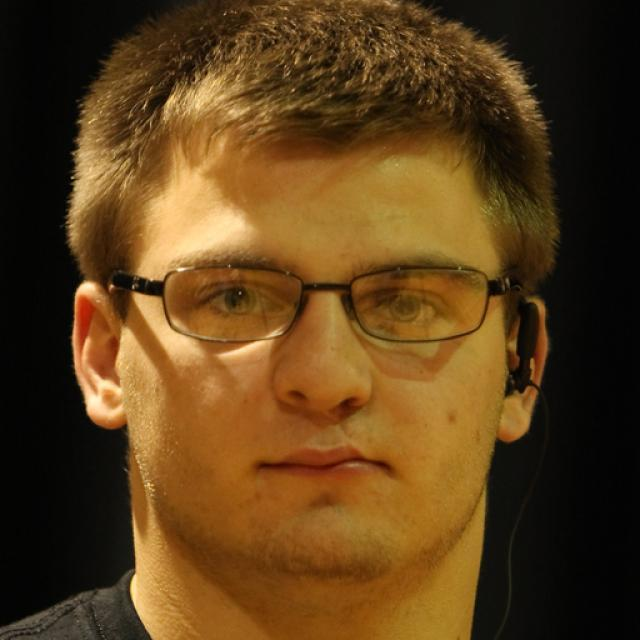neutral: (120, 130, 505, 578)
